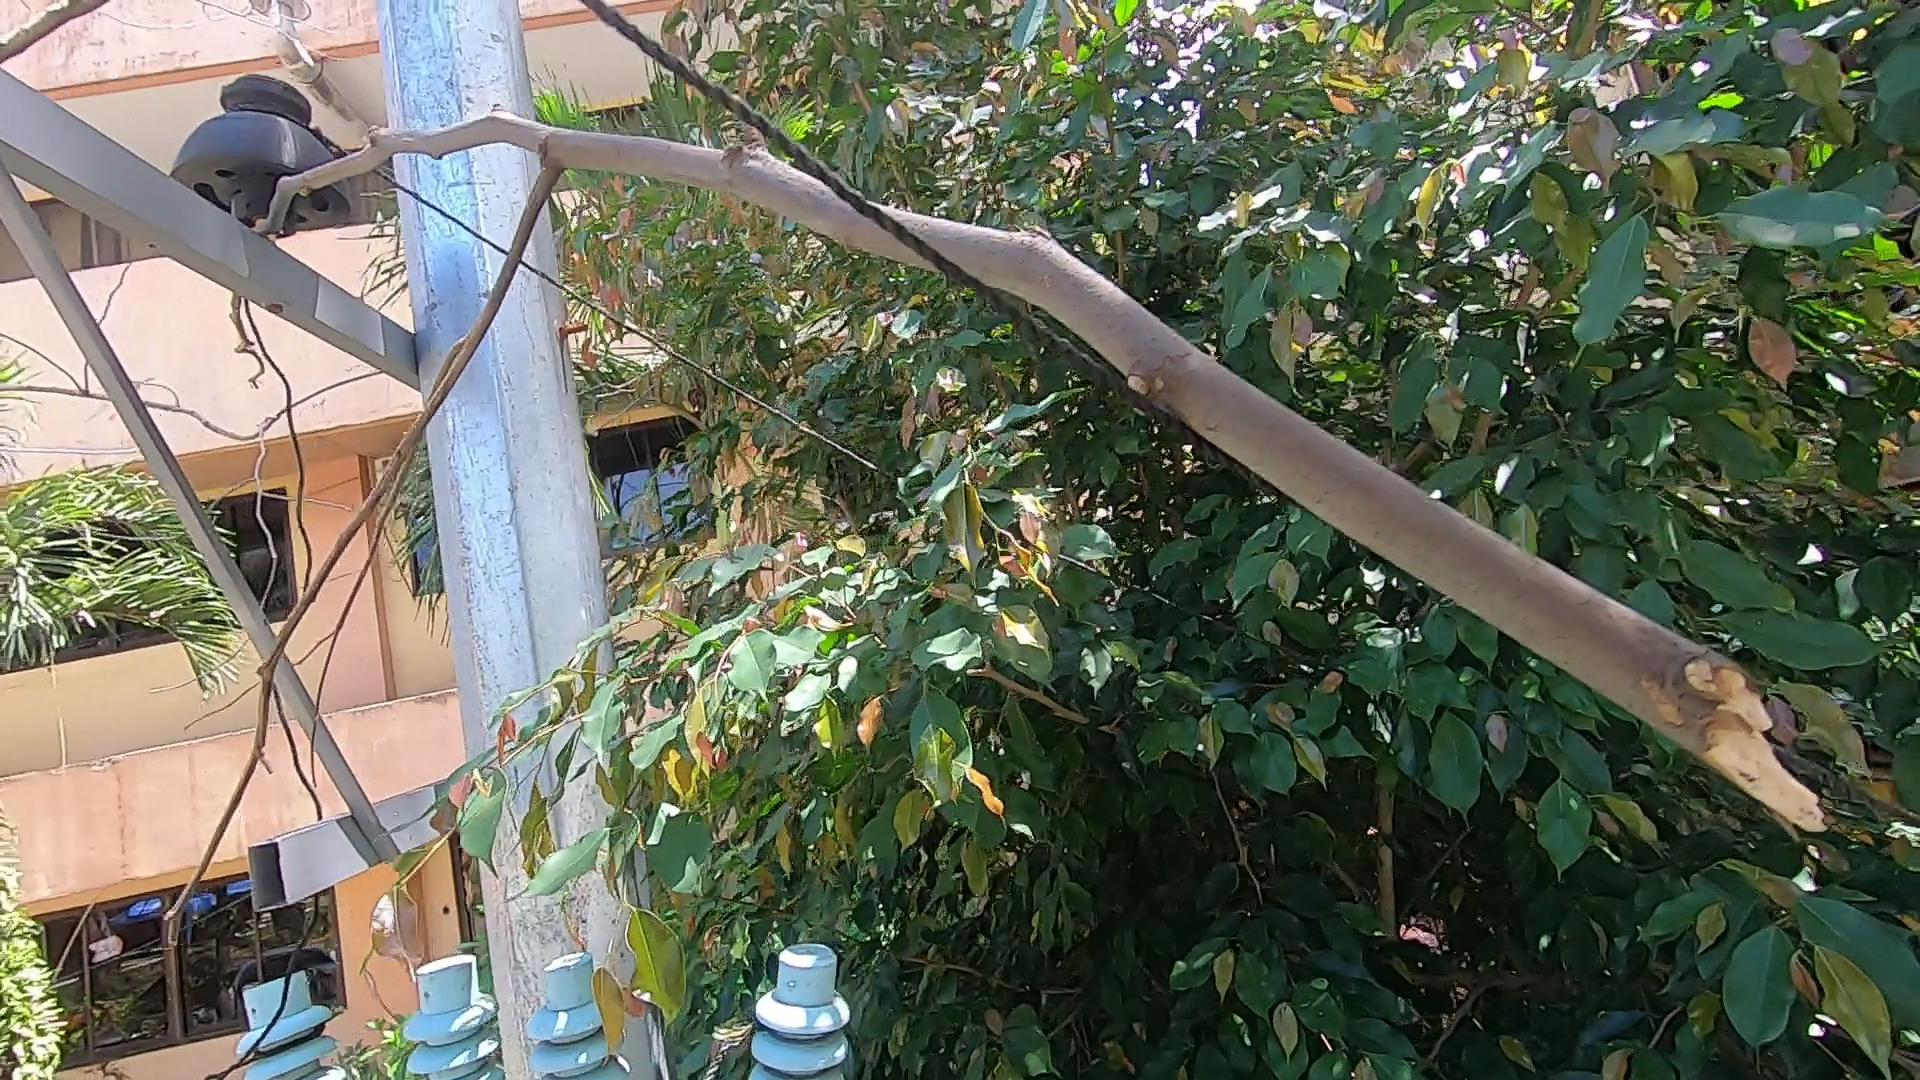branch with leaves: (378, 732, 717, 1080)
tree branch: (102, 90, 1841, 865)
